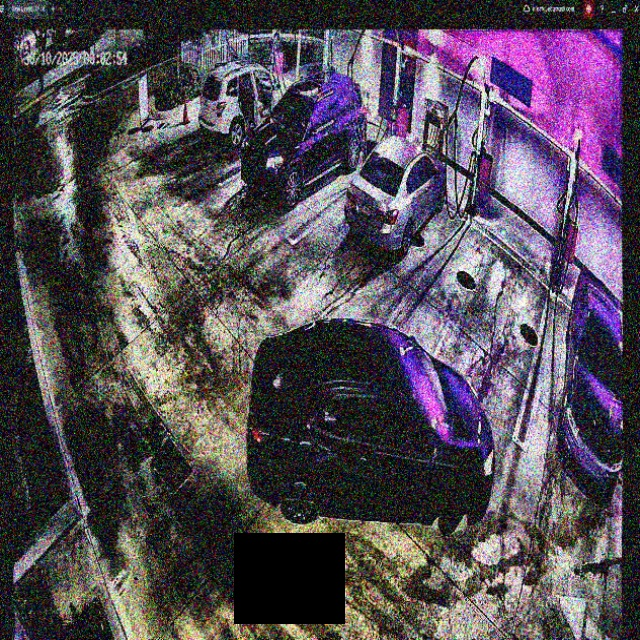Car: (245, 315, 495, 537), (239, 73, 366, 205), (346, 131, 446, 252), (199, 63, 294, 146)
